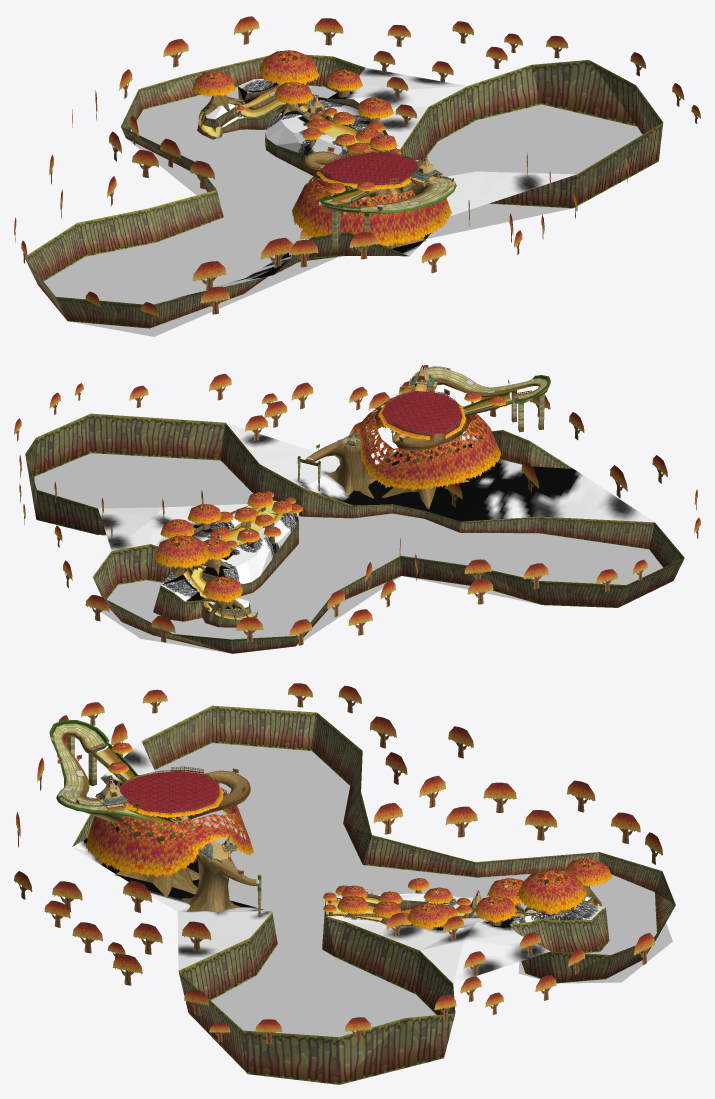
File: Gwii_MapleTreeway.obj
3 views of the same model, one above another, from view 1: azimuth 30°, elevation 25°; view 2: azimuth 150°, elevation 25°; view 3: azimuth 270°, elevation 25° (orthographic). The views are drawn at different scales.
Size of the model in its own units: 15255 by 2702 by 12492.
